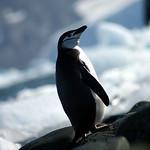chinstrap: (44, 22, 115, 150)
